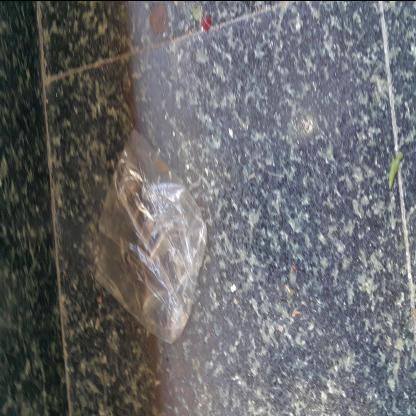plastik: (126, 207, 344, 324)
